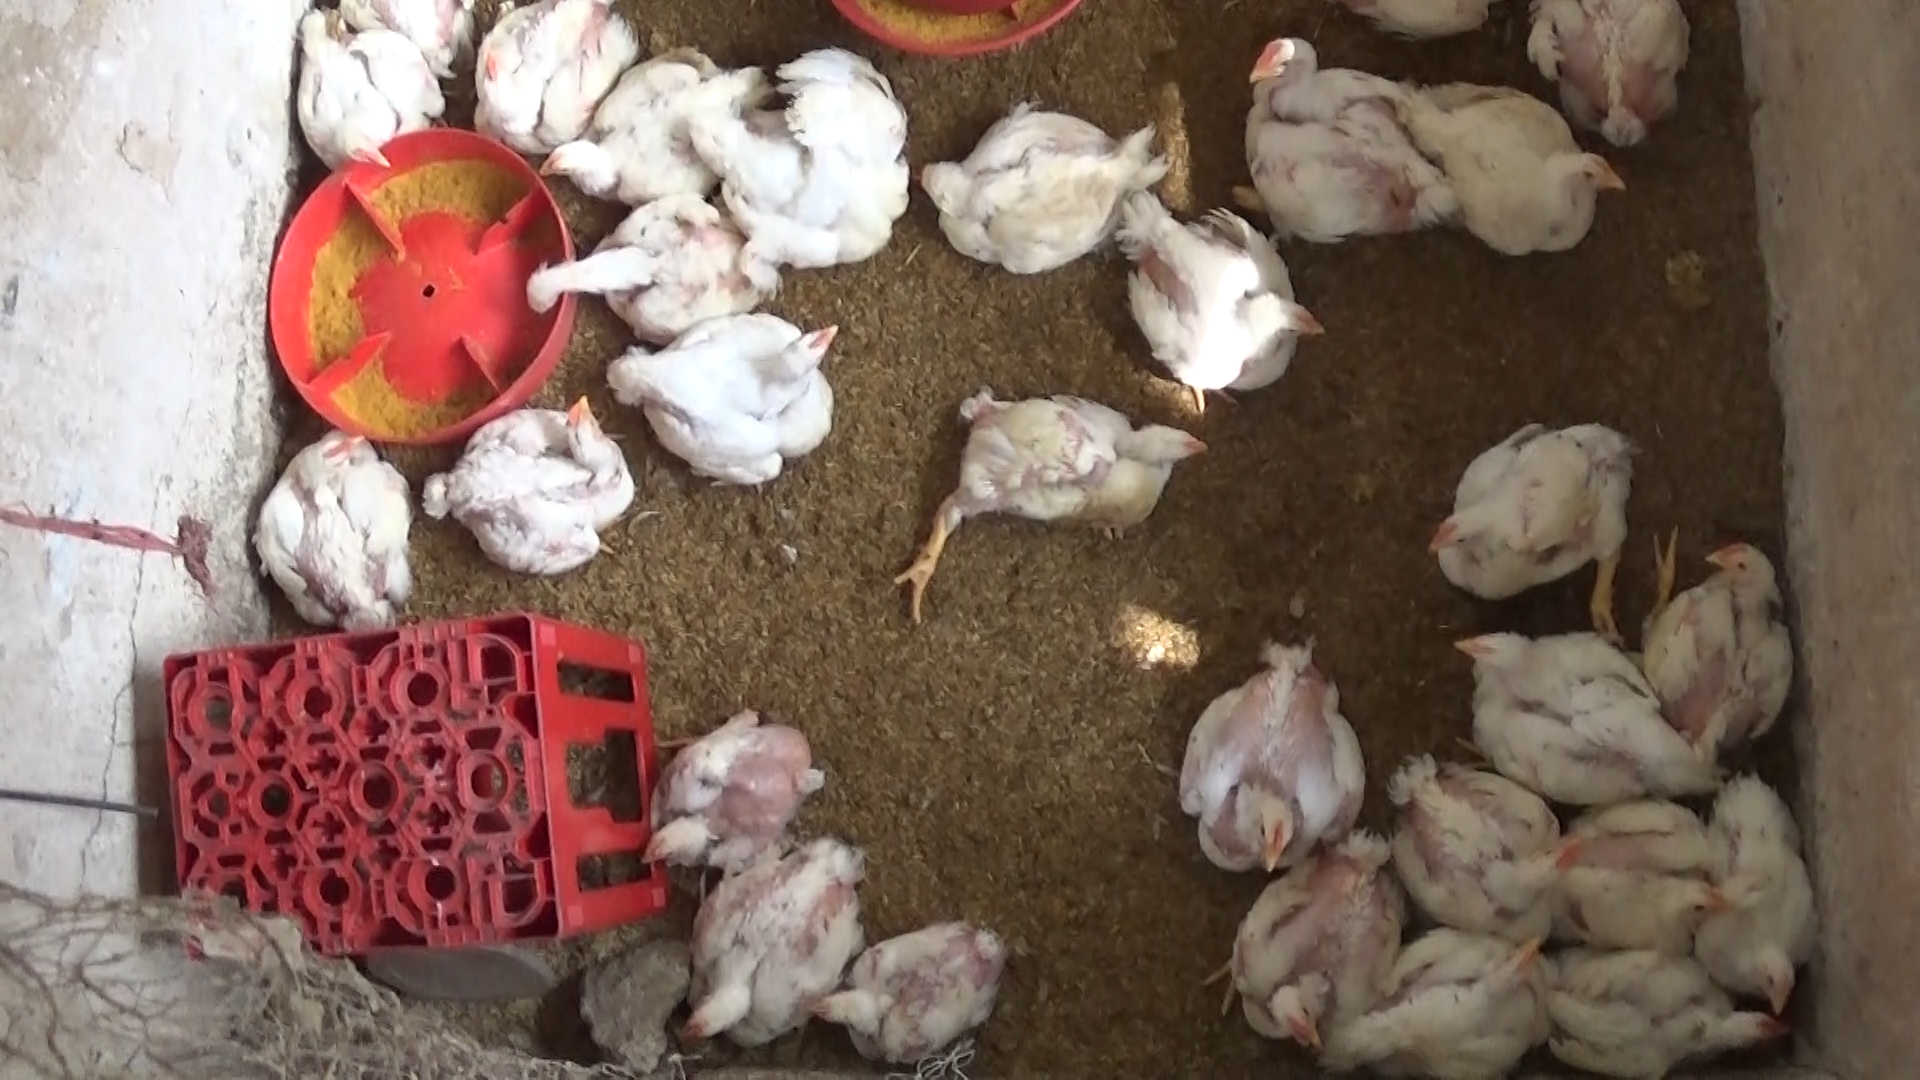Pollos: (893, 378, 1215, 615), (1447, 618, 1730, 803), (1396, 65, 1631, 284), (1241, 33, 1461, 264), (1420, 402, 1631, 640), (696, 62, 926, 273), (1168, 640, 1366, 884), (671, 823, 874, 1054), (1120, 194, 1336, 409), (1205, 839, 1425, 1048), (913, 108, 1178, 277), (407, 386, 630, 576), (616, 311, 858, 481), (521, 191, 775, 345), (1545, 773, 1755, 957), (1393, 738, 1578, 938), (1320, 936, 1582, 1073), (1644, 516, 1793, 756), (251, 427, 426, 626), (786, 909, 1001, 1063), (535, 33, 713, 214), (634, 712, 820, 880), (1553, 949, 1787, 1080), (462, 0, 637, 156), (1712, 771, 1821, 1011), (1540, 0, 1696, 164), (316, 26, 436, 189)
